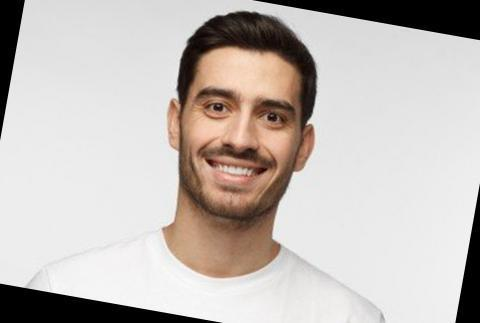Sober: (190, 56, 298, 200)
